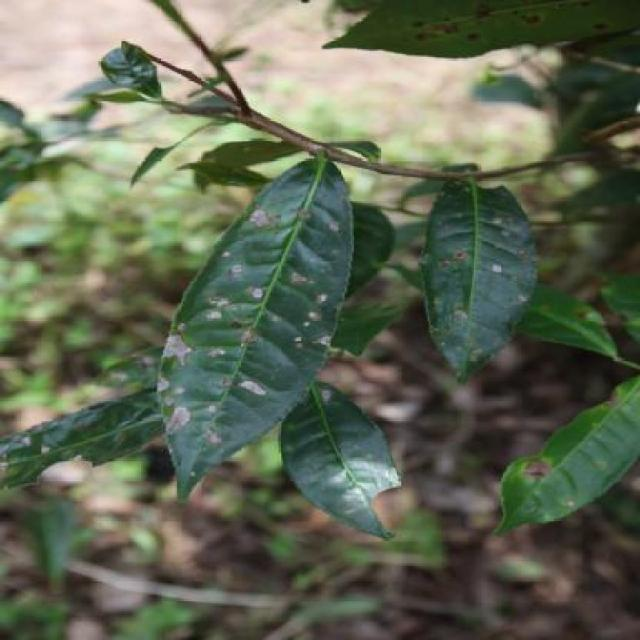Leaf rust of tea: (158, 152, 354, 506)
